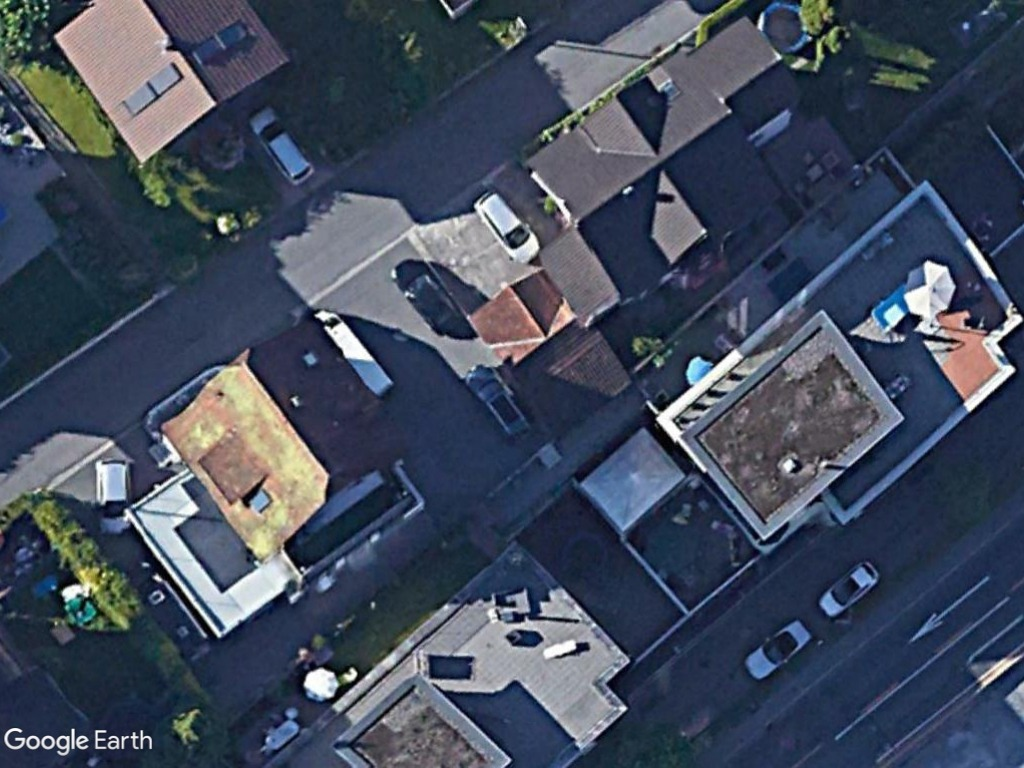car: (242, 103, 319, 191), (470, 187, 543, 268), (742, 617, 812, 684), (813, 556, 884, 621), (92, 456, 136, 537)
